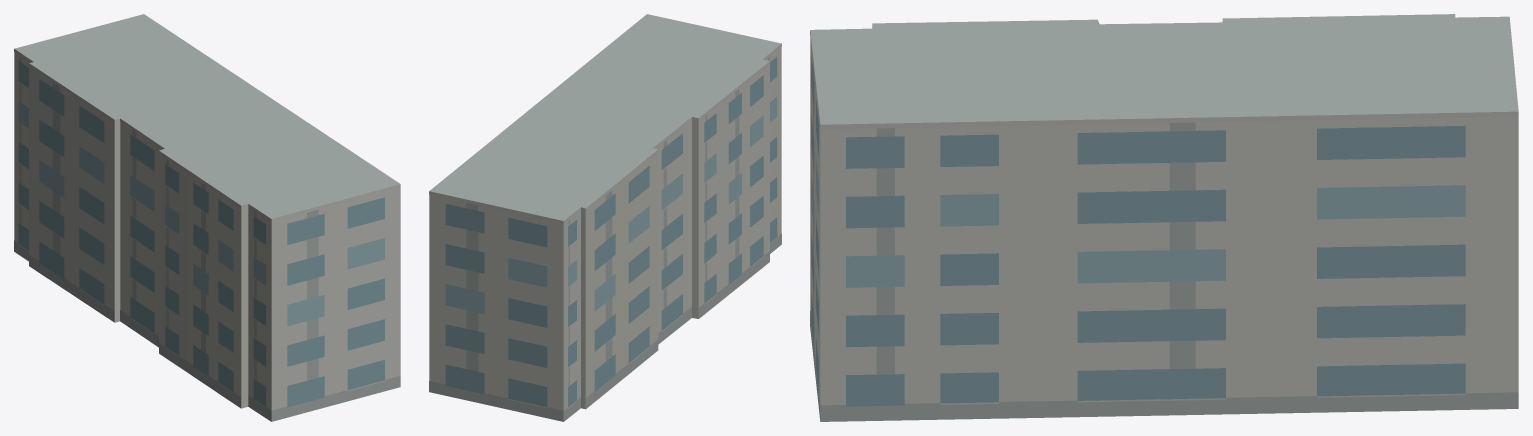
File: survey-upis-32703339.glb
3 views of the same model, side by side, from view 1: azimuth 30°, elevation 25°; view 2: azimuth 150°, elevation 25°; view 3: azimuth 270°, elevation 25° (orthographic). The views are drawn at different scales.
Visible parts, largest first — view 1: survey-upis-32703339.tmp; view 2: survey-upis-32703339.tmp; view 3: survey-upis-32703339.tmp.
Part boxes in pixels (<box>): survey-upis-32703339.tmp: <box>14,14,400,421</box>; survey-upis-32703339.tmp: <box>429,14,781,421</box>; survey-upis-32703339.tmp: <box>810,14,1518,421</box>.
Bounding box in the file's own units: 12.07 × 15.1 × 32.63.
